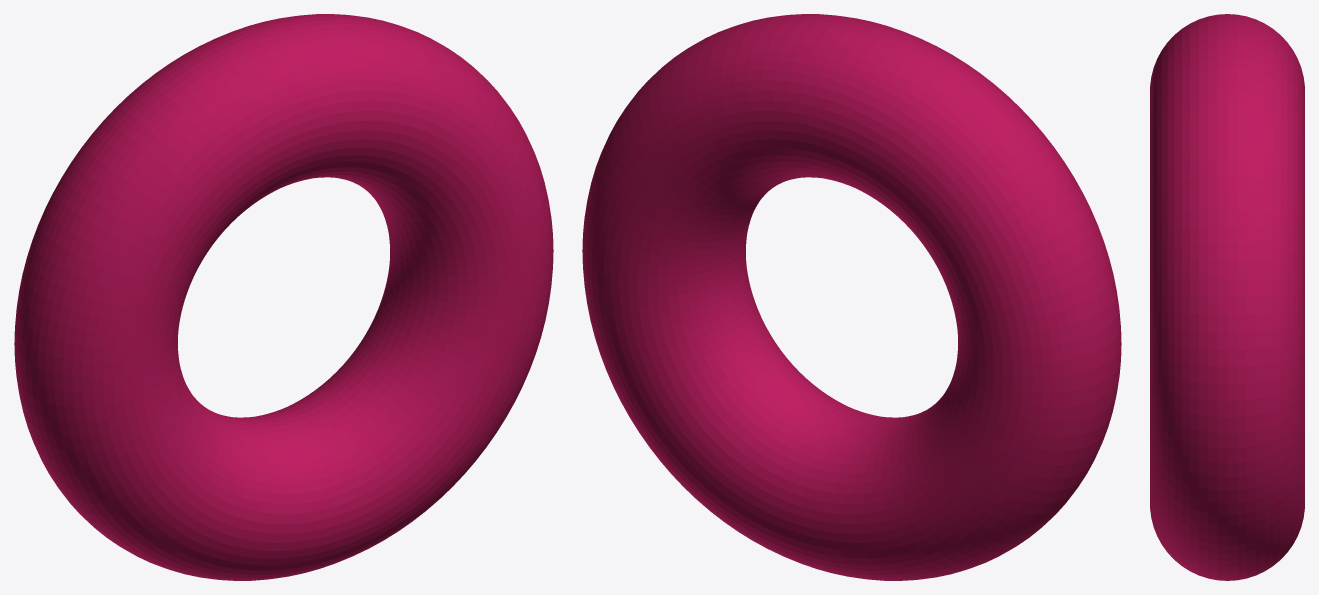
3 views of the same model, side by side, from view 1: azimuth 30°, elevation 25°; view 2: azimuth 150°, elevation 25°; view 3: azimuth 270°, elevation 25° (orthographic). The views are drawn at different scales.
Parts seen in each view (by area): view 1: world; view 2: world; view 3: world.
Boxes of the visible parts, x1,y1,x2,y2 form: world: [14, 14, 553, 580]; world: [582, 14, 1121, 580]; world: [1150, 14, 1304, 580].
Size of the model in its own units: 23.87 by 23.87 by 6.52.
